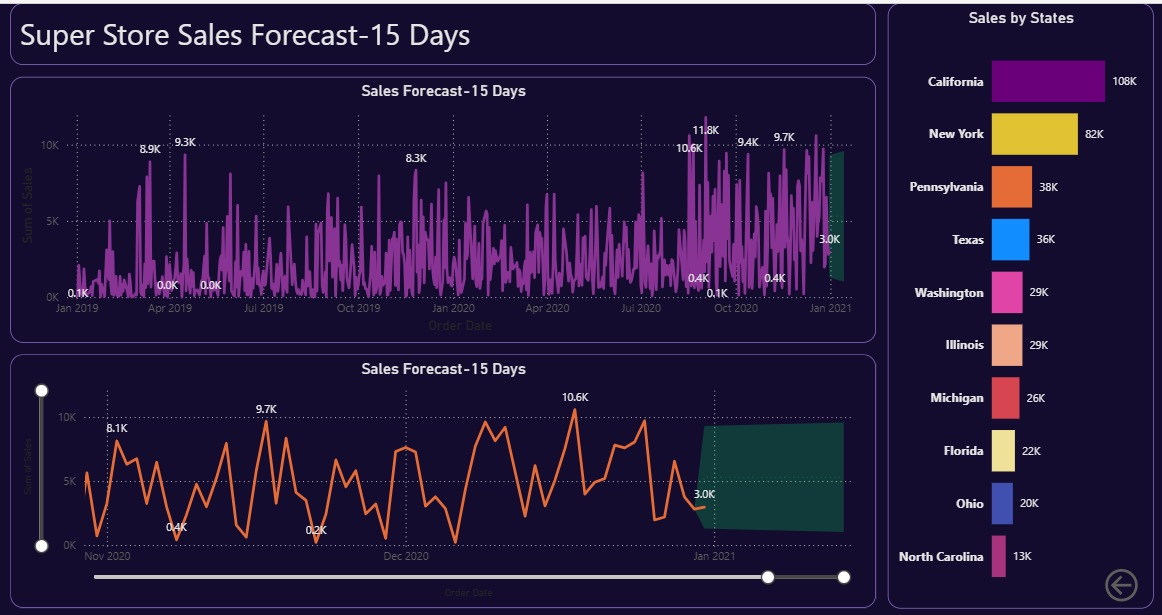

The page's visual inventory and layout, read from the dashboard file:
{"tool":"powerbi","page":{"name":"Sales Forecast","canvas":[1280,720],"ordinal":1},"visuals":[{"type":"lineChart","title":"Sales Forecast-15 Days","fields":{"Y":["Sum(SuperStore_Sales_Dataset.Sales)"],"Category":["SuperStore_Sales_Dataset.Order Date"]},"box":[11.7,125,950,291.7],"z":0},{"type":"lineChart","title":"Sales Forecast-15 Days","fields":{"Y":["Sum(SuperStore_Sales_Dataset.Sales)"],"Category":["SuperStore_Sales_Dataset.Order Date"]},"box":[11.7,430,950,278.3],"z":1000},{"type":"textbox","box":[11.7,43.3,950,68.3],"z":1001},{"type":"clusteredBarChart","title":" Sales by States","fields":{"Y":["Sum(SuperStore_Sales_Dataset.Sales)"],"Category":["SuperStore_Sales_Dataset.State"]},"box":[975,43.3,291.7,665],"z":1002},{"type":"actionButton","box":[1208.3,656.7,46.7,51.7],"z":1003}]}

Visuals, with their boxes on the page's 1280x720 design canvas (x1, y1, x2, y2). These are canvas units, not pixel positions in the 1162x615 screenshot, which may show the page scaled, cropped or inside an application window:
"Sales Forecast-15 Days" lineChart: [12, 125, 962, 417]
"Sales Forecast-15 Days" lineChart: [12, 430, 962, 708]
textbox: [12, 43, 962, 112]
" Sales by States" clusteredBarChart: [975, 43, 1267, 708]
actionButton: [1208, 657, 1255, 708]
